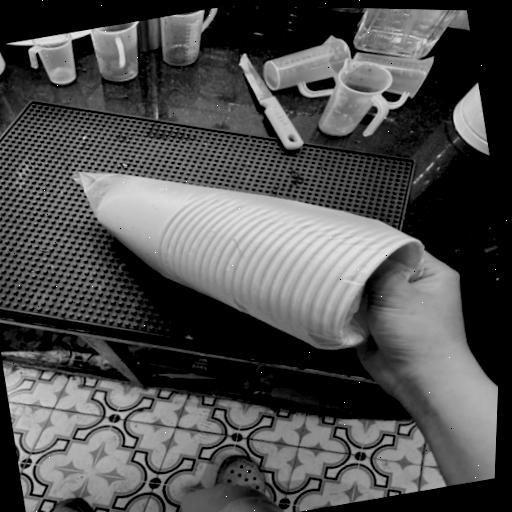Ly_giay: (75, 172, 424, 349)
